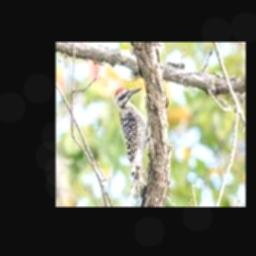Woodpecker: (114, 87, 150, 207)
